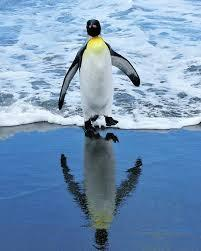king: (50, 9, 148, 145)
